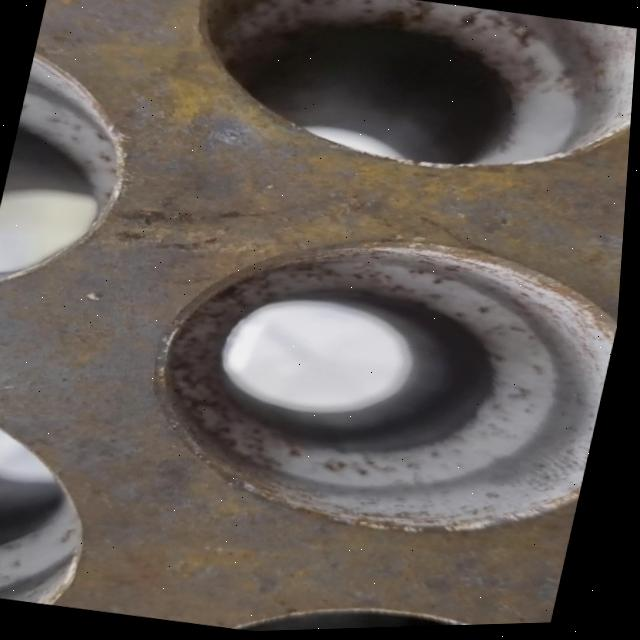Hole: (126, 202, 629, 567), (164, 0, 640, 210), (0, 38, 157, 318), (0, 395, 122, 611)
